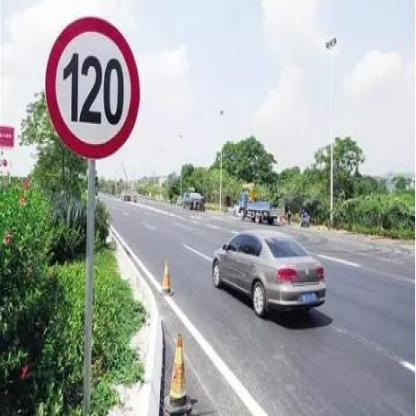Speed Limit 120: (48, 14, 140, 159)
